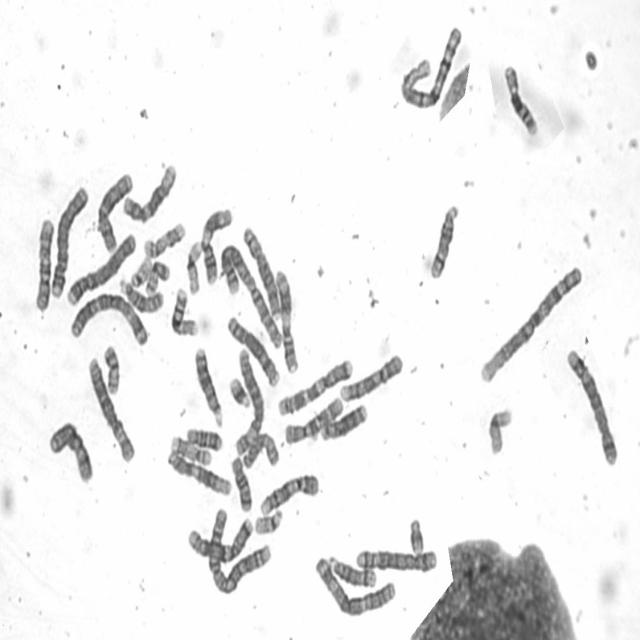A1: (476, 260, 585, 384), (398, 21, 464, 110)
A2: (216, 238, 285, 351), (207, 504, 272, 596)
A3: (311, 552, 398, 619), (68, 288, 150, 349)
B4: (64, 227, 138, 308), (49, 181, 90, 302)
B5: (564, 341, 620, 468), (353, 544, 440, 574)
C10: (281, 392, 344, 447), (32, 214, 56, 314)
C11: (198, 202, 234, 286), (274, 265, 300, 374)
C12: (120, 160, 178, 224), (165, 447, 234, 498)
C6: (85, 352, 136, 464), (233, 346, 265, 457)
C7: (275, 354, 354, 418), (185, 513, 255, 561)
C8: (224, 310, 282, 389), (240, 221, 282, 320)
C9: (337, 348, 405, 404), (258, 468, 322, 519)
D13: (192, 342, 225, 430), (318, 402, 370, 442)
D14: (426, 199, 462, 281), (323, 552, 378, 590)
D15: (116, 274, 165, 314), (239, 428, 281, 471)
E16: (500, 58, 540, 138), (168, 284, 198, 338)
E17: (142, 219, 188, 260), (168, 431, 214, 468)
E18: (228, 451, 254, 515), (184, 424, 224, 452)
F19: (486, 404, 514, 457), (184, 238, 203, 297)
F20: (100, 341, 121, 396), (142, 259, 171, 297)
G21: (226, 372, 252, 410), (406, 514, 426, 557)
G22: (252, 504, 286, 536), (128, 253, 154, 289)
X: (94, 166, 136, 254), (46, 416, 95, 485)
